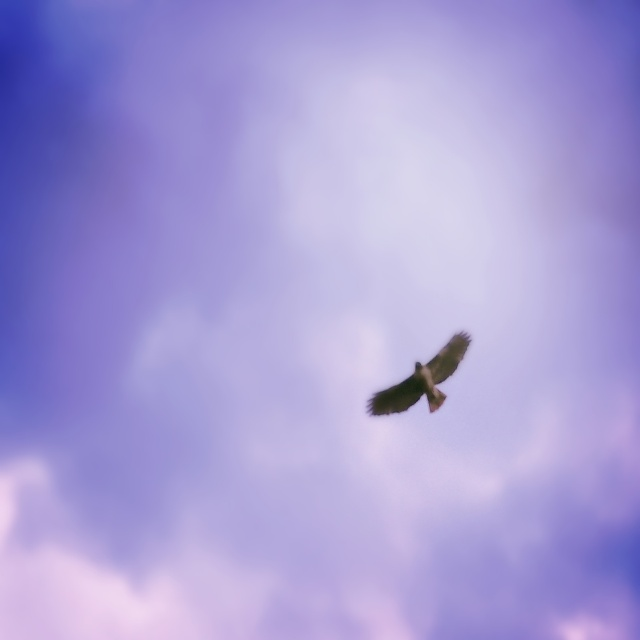Eagle: (364, 326, 476, 416)
